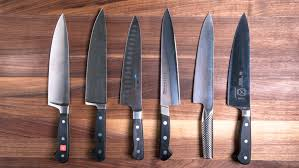knife: (225, 11, 253, 165), (46, 12, 72, 163), (83, 6, 108, 162), (118, 14, 144, 161), (191, 10, 215, 160), (158, 7, 181, 161)
